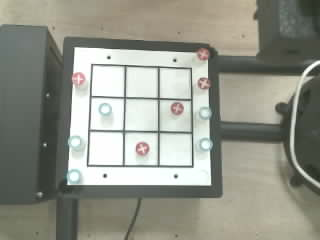blue circle: (68, 136, 83, 150), (67, 169, 81, 183), (199, 107, 212, 120), (199, 138, 212, 150), (99, 103, 111, 115)
board: (68, 47, 213, 185)
cells: (88, 132, 122, 165), (125, 133, 157, 165), (160, 134, 192, 165), (125, 99, 157, 130), (91, 98, 123, 129), (160, 68, 191, 99), (160, 100, 191, 131), (92, 66, 124, 96), (126, 67, 157, 97)
grid: (87, 64, 193, 167)
red cross: (72, 72, 85, 85), (136, 142, 149, 155), (198, 78, 211, 90), (197, 48, 209, 60), (171, 102, 183, 114)
